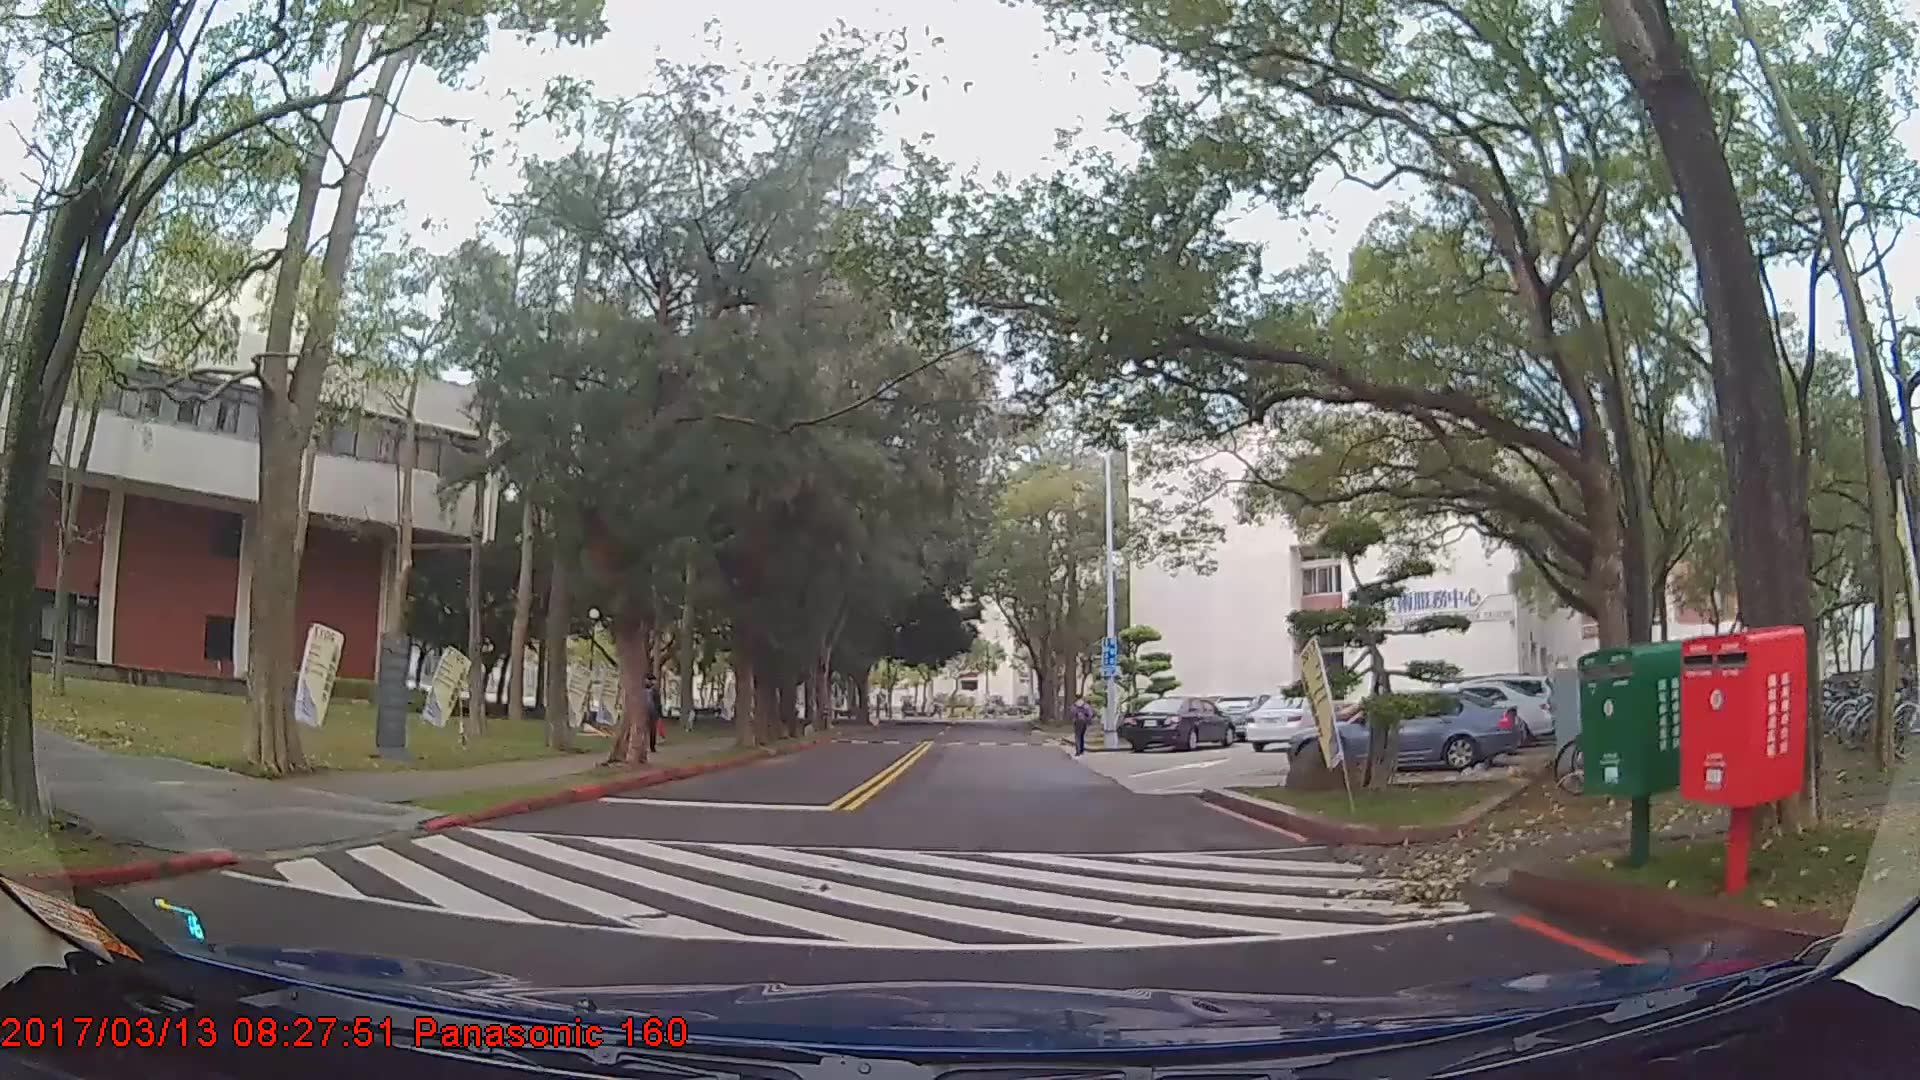pedestrian: (633, 672, 665, 755), (1068, 693, 1097, 758)
vehicle: (1288, 685, 1522, 774), (1394, 680, 1553, 745), (1119, 696, 1234, 752), (1244, 691, 1338, 751)
